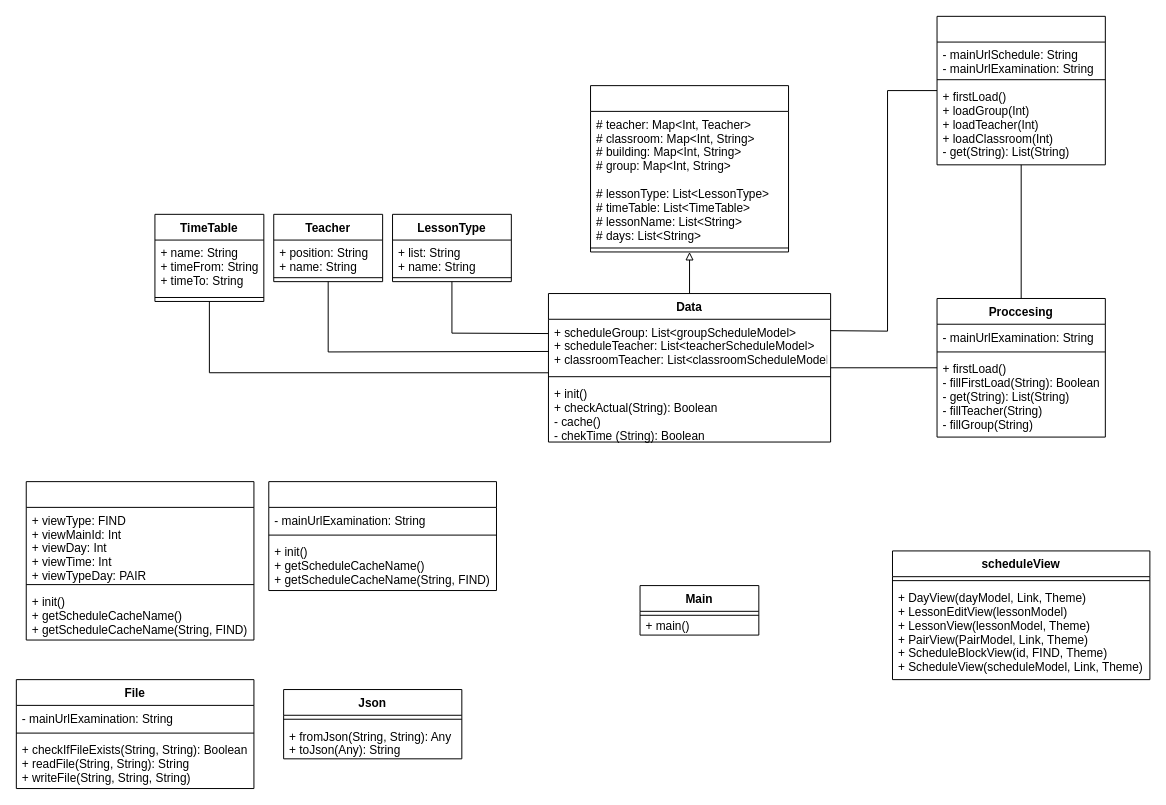
This 1166x805 diagram has some shape labels left out. Here are the shapes that lost their labels. From the top down, the box of each, then its label:
(936, 15, 1105, 165): Net
(590, 85, 789, 252): OnlyData
(268, 481, 496, 591): Dir
(25, 481, 254, 640): Link
